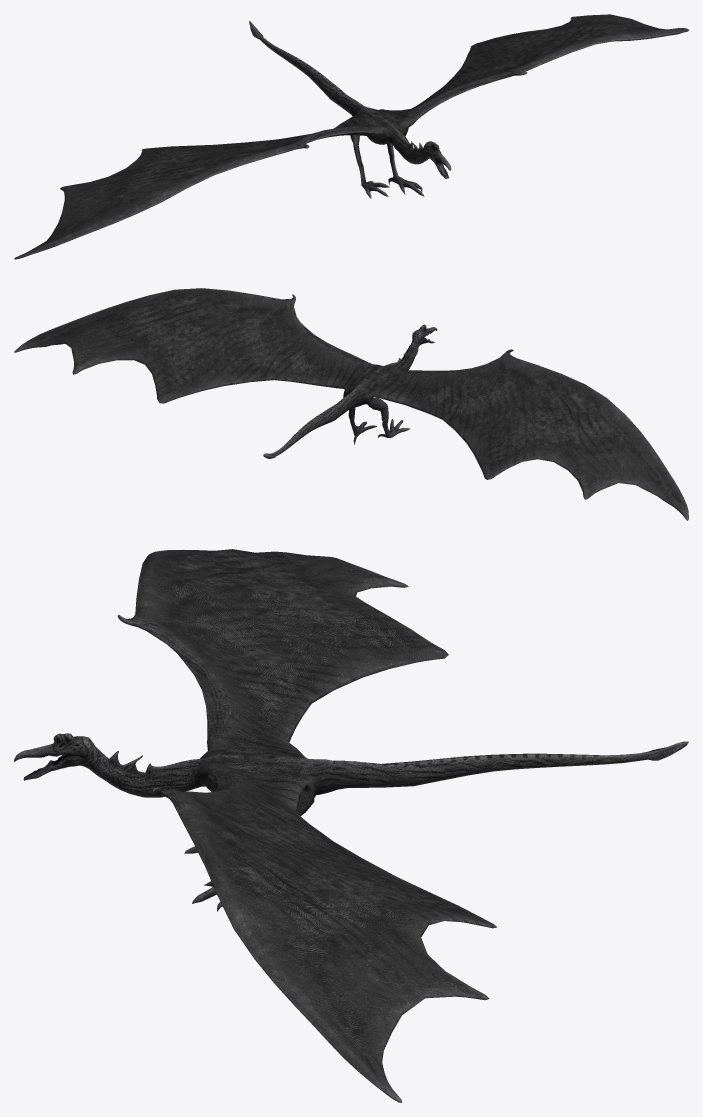
File: Fellbeast_Animate_Grab_Glide_33.obj
3 views of the same model, one above another, from view 1: azimuth 30°, elevation 25°; view 2: azimuth 150°, elevation 25°; view 3: azimuth 270°, elevation 25° (orthographic). The views are drawn at different scales.
Visible parts, largest first — view 1: Fellbeast; view 2: Fellbeast; view 3: Fellbeast.
Boxes of the visible parts, left/top/right/bottom form: Fellbeast: left=14, top=14, right=688, bottom=259; Fellbeast: left=14, top=288, right=688, bottom=520; Fellbeast: left=14, top=549, right=688, bottom=1102.
Size of the model in its own units: 9.16 by 1.42 by 4.39.
